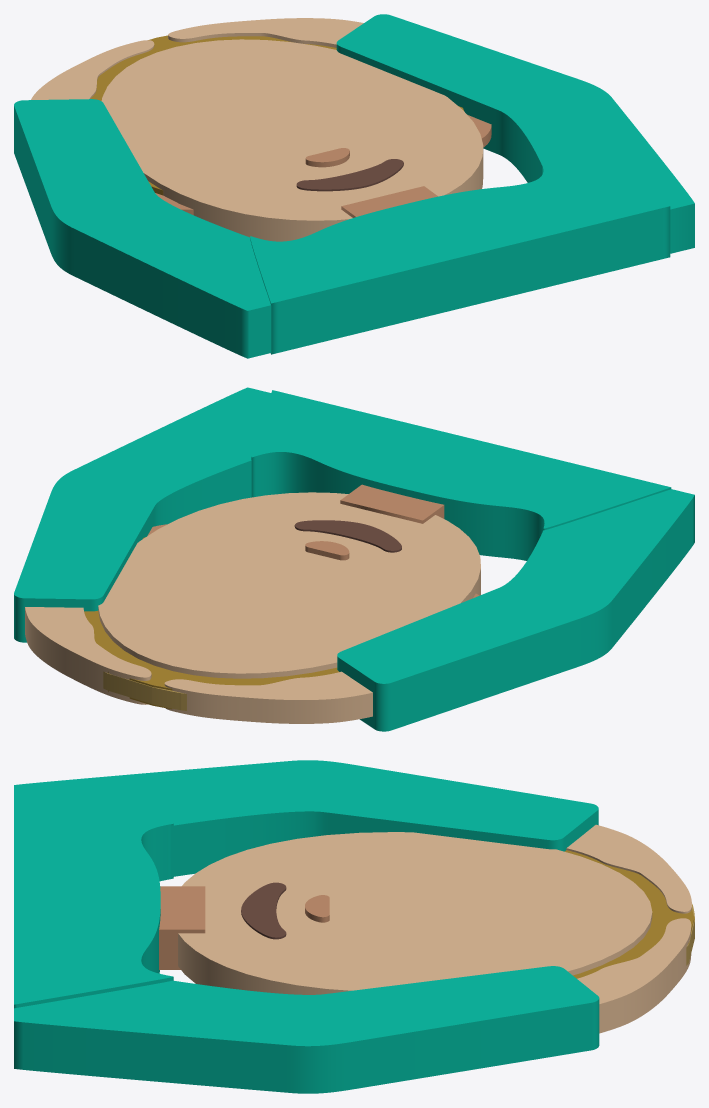
Rendered from emoji_u1f646_1f3fc_200d_2642.glb.
3 renders of one model, top to bottom at view 1: azimuth 30°, elevation 25°; view 2: azimuth 150°, elevation 25°; view 3: azimuth 270°, elevation 25°, orthographic. The views are drawn at different scales.
Visible parts, largest first — view 1: emoji_u1f646_1f3fc_200d_2642; view 2: emoji_u1f646_1f3fc_200d_2642; view 3: emoji_u1f646_1f3fc_200d_2642.
Boxes of the visible parts, x1,y1,x2,y2 form: emoji_u1f646_1f3fc_200d_2642: [14, 14, 694, 358]; emoji_u1f646_1f3fc_200d_2642: [14, 387, 694, 731]; emoji_u1f646_1f3fc_200d_2642: [14, 760, 694, 1093].
Bounding box in the file's own units: 0.0333 × 0.003 × 0.0337.
